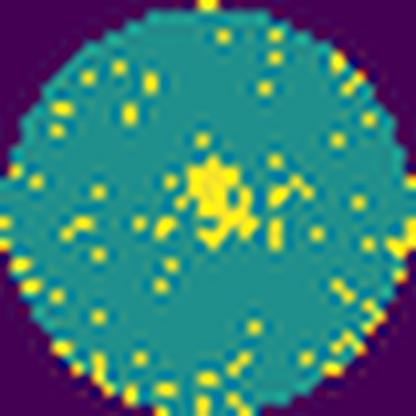Center: (178, 154, 261, 250)
